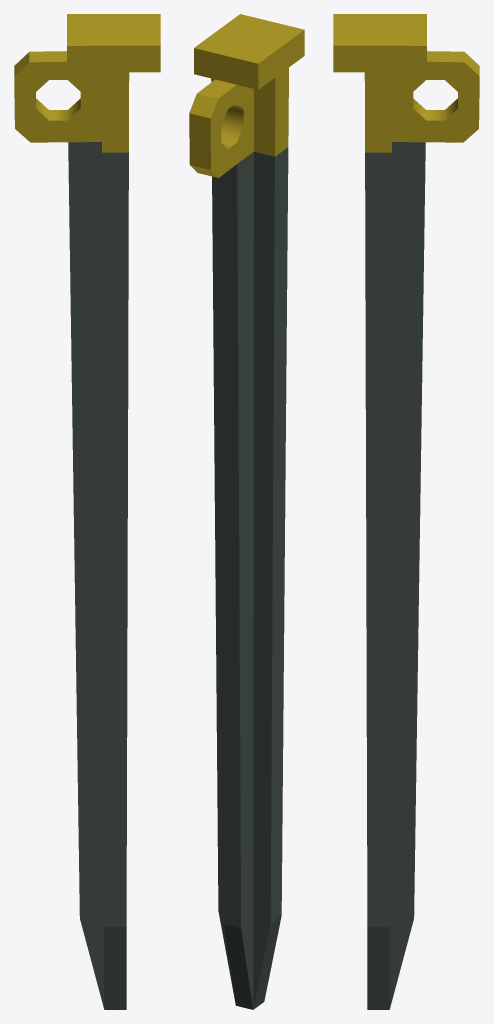
The model's file is Anchor.fbx.
3 renders of one model, left to right at view 1: azimuth 90°, elevation 25°; view 2: azimuth 150°, elevation 25°; view 3: azimuth 270°, elevation 25°, orthographic.
Parts seen in each view (by area): view 1: Anchor; view 2: Anchor; view 3: Anchor.
Boxes of the visible parts, x1,y1,x2,y2 form: Anchor: [14, 14, 160, 1009]; Anchor: [189, 14, 304, 1009]; Anchor: [333, 14, 479, 1009].
Size of the model in its own units: 6.58 by 94.25 by 12.84.
